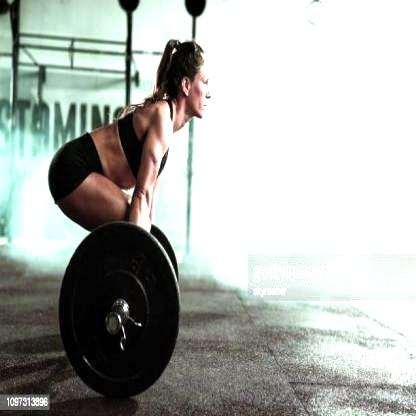Barbell: (105, 309, 125, 347)
